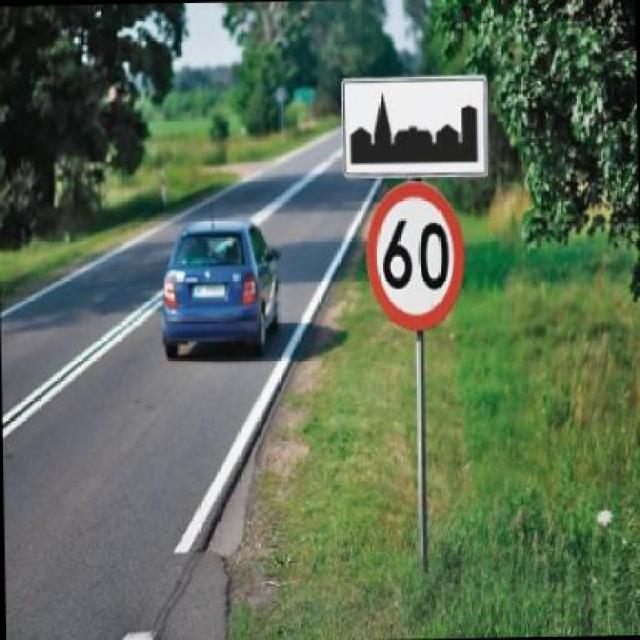Limite-60: (364, 177, 469, 337)
